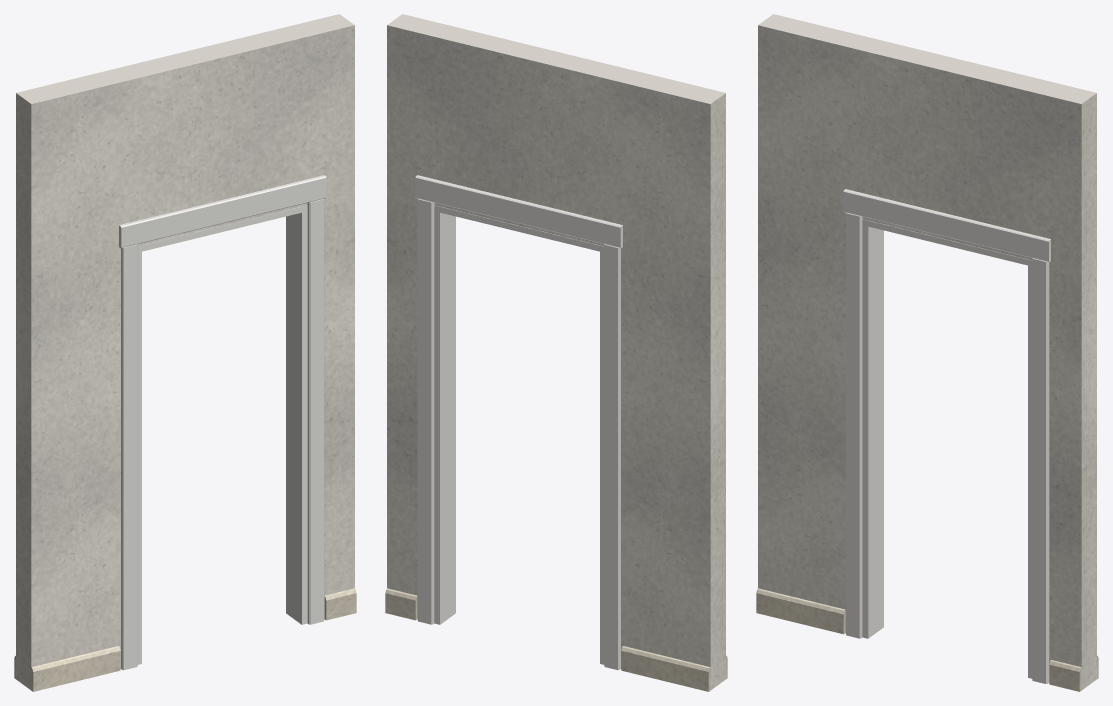
The model's file is iw_end_doorway.glb.
The picture shows the model from 3 angles, left to right: view 1: azimuth 30°, elevation 25°; view 2: azimuth 150°, elevation 25°; view 3: azimuth 330°, elevation 25°; orthographic projection.
Visible parts, largest first — view 1: iw_end_doorway_plaster, iw_end_doorway_frame, iw_end_doorway_trim; view 2: iw_end_doorway_plaster, iw_end_doorway_frame, iw_end_doorway_trim; view 3: iw_end_doorway_plaster, iw_end_doorway_frame, iw_end_doorway_trim.
Part boxes in pixels (bbox=[...]): iw_end_doorway_plaster: bbox=[16, 14, 354, 690]; iw_end_doorway_frame: bbox=[119, 175, 326, 670]; iw_end_doorway_trim: bbox=[14, 588, 356, 691]; iw_end_doorway_plaster: bbox=[387, 14, 725, 690]; iw_end_doorway_frame: bbox=[415, 175, 622, 670]; iw_end_doorway_trim: bbox=[385, 588, 727, 691]; iw_end_doorway_plaster: bbox=[758, 14, 1096, 690]; iw_end_doorway_frame: bbox=[843, 189, 1050, 683]; iw_end_doorway_trim: bbox=[756, 588, 1098, 691].
Bounding box in the file's own units: 1.7 × 2.94 × 0.18.
3 materials, 2 textured.
